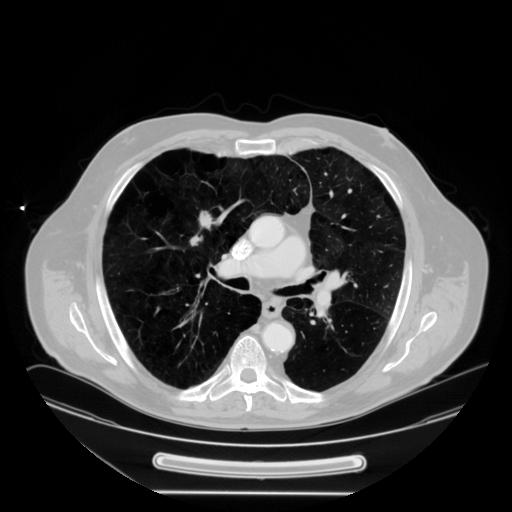nodule: (190, 216, 214, 240)
